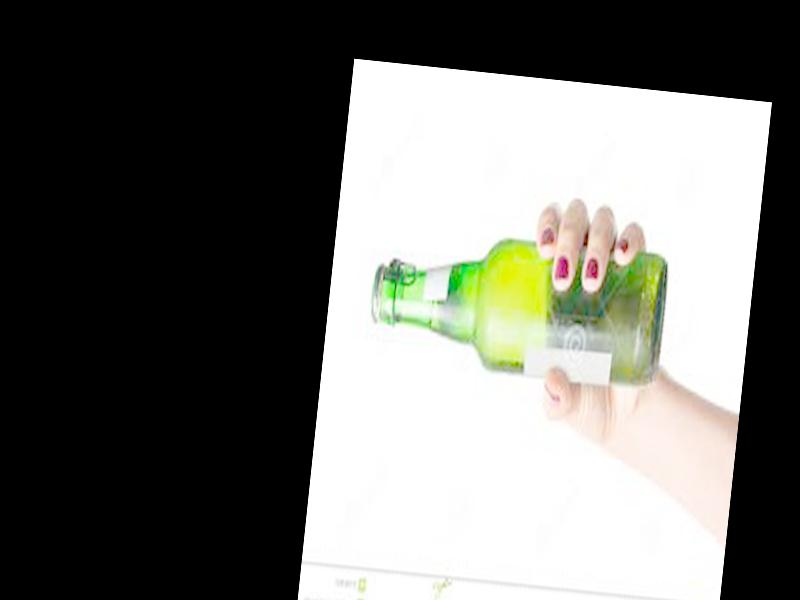Beer: (364, 216, 670, 393)
